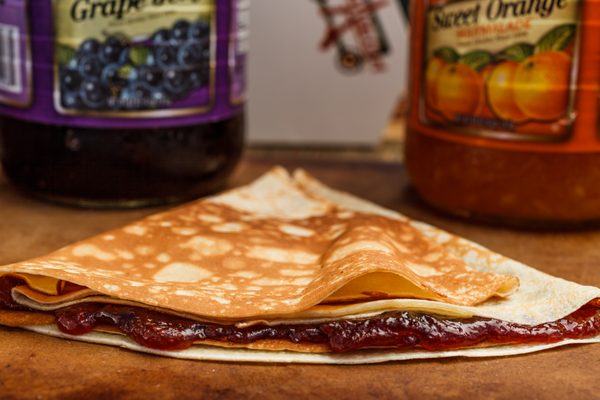sushi: (403, 0, 600, 231)
